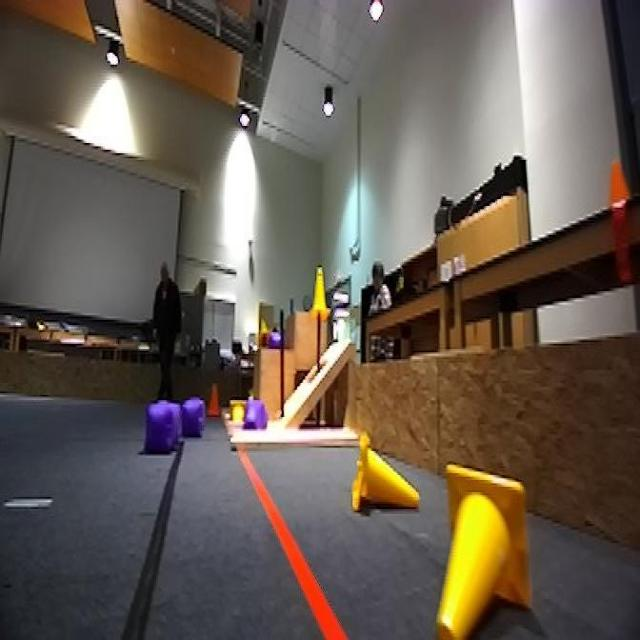frc_cone: (434, 461, 534, 640), (346, 429, 421, 522), (310, 266, 330, 316), (228, 402, 250, 427)
frc_cube: (142, 403, 179, 451), (180, 395, 206, 439), (242, 398, 263, 428), (265, 330, 285, 347)
